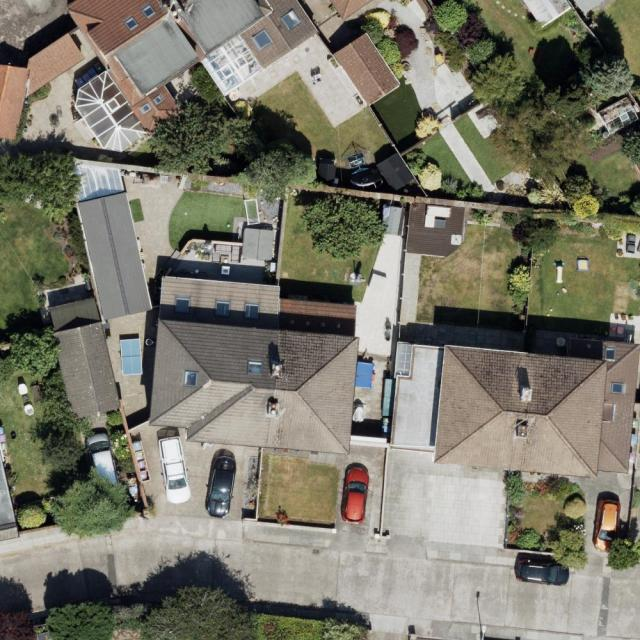roof: (64, 0, 319, 154), (150, 275, 358, 453), (389, 340, 640, 479), (51, 191, 152, 420), (0, 32, 86, 141), (335, 33, 400, 107), (330, 0, 375, 19)
skylight: (74, 70, 148, 153), (201, 34, 264, 96), (277, 6, 304, 31), (252, 28, 274, 50), (243, 303, 262, 321), (173, 297, 191, 316), (183, 369, 200, 389), (215, 300, 232, 319), (246, 360, 264, 376), (140, 4, 157, 19), (124, 16, 139, 32), (139, 102, 153, 117), (151, 92, 164, 107)
